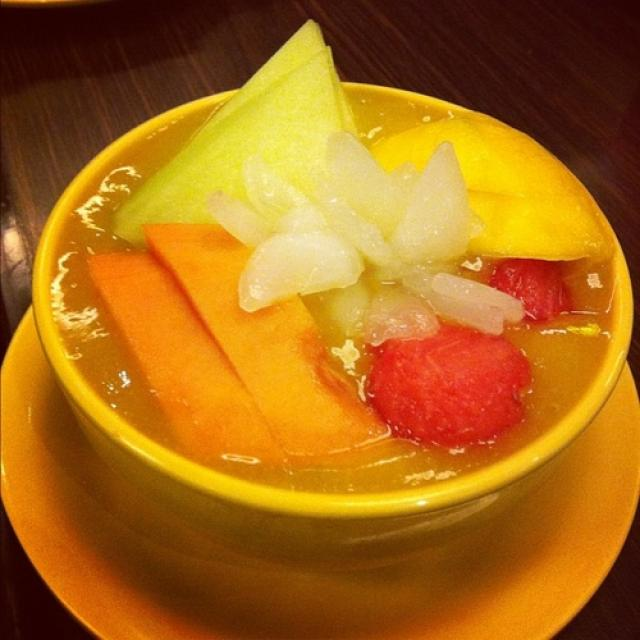蛋糕甜品: (4, 13, 630, 604)
